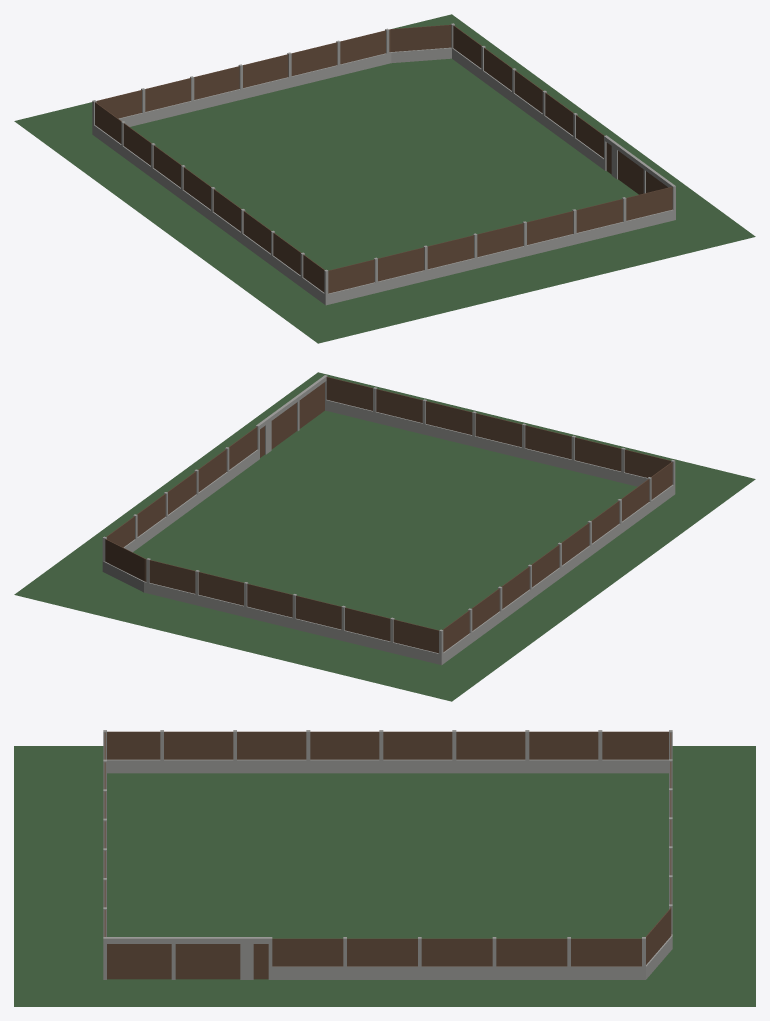
File: land.glb
3 views of the same model, one above another, from view 1: azimuth 30°, elevation 25°; view 2: azimuth 150°, elevation 25°; view 3: azimuth 270°, elevation 25° (orthographic). The views are drawn at different scales.
Parts seen in each view (by area): view 1: Plane, Body575, Body598, Body596, Body597, Body595, Body599; view 2: Plane, Body575, Body598, Body596, Body597, Body595, Body599; view 3: Plane, Body575, Body597, Body595, Body599.
Boxes of the visible parts, x1=… form: Plane: x1=14, y1=14, x2=755, y2=343; Body575: x1=92, y1=23, x2=675, y2=305; Body598: x1=328, y1=187, x2=672, y2=293; Body596: x1=96, y1=30, x2=385, y2=118; Body597: x1=95, y1=102, x2=324, y2=292; Body595: x1=453, y1=25, x2=667, y2=194; Body599: x1=389, y1=24, x2=451, y2=52; Plane: x1=14, y1=372, x2=755, y2=701; Body575: x1=102, y1=375, x2=675, y2=665; Body598: x1=326, y1=377, x2=670, y2=477; Body596: x1=149, y1=560, x2=438, y2=653; Body597: x1=443, y1=462, x2=672, y2=652; Body595: x1=106, y1=382, x2=324, y2=547; Body599: x1=105, y1=539, x2=146, y2=581; Plane: x1=14, y1=746, x2=755, y2=1006; Body575: x1=103, y1=730, x2=672, y2=979; Body597: x1=107, y1=731, x2=668, y2=759; Body595: x1=107, y1=938, x2=641, y2=979; Body599: x1=646, y1=907, x2=671, y2=964.
Size of the model in its own units: 32.39 by 2.45 by 38.95.
